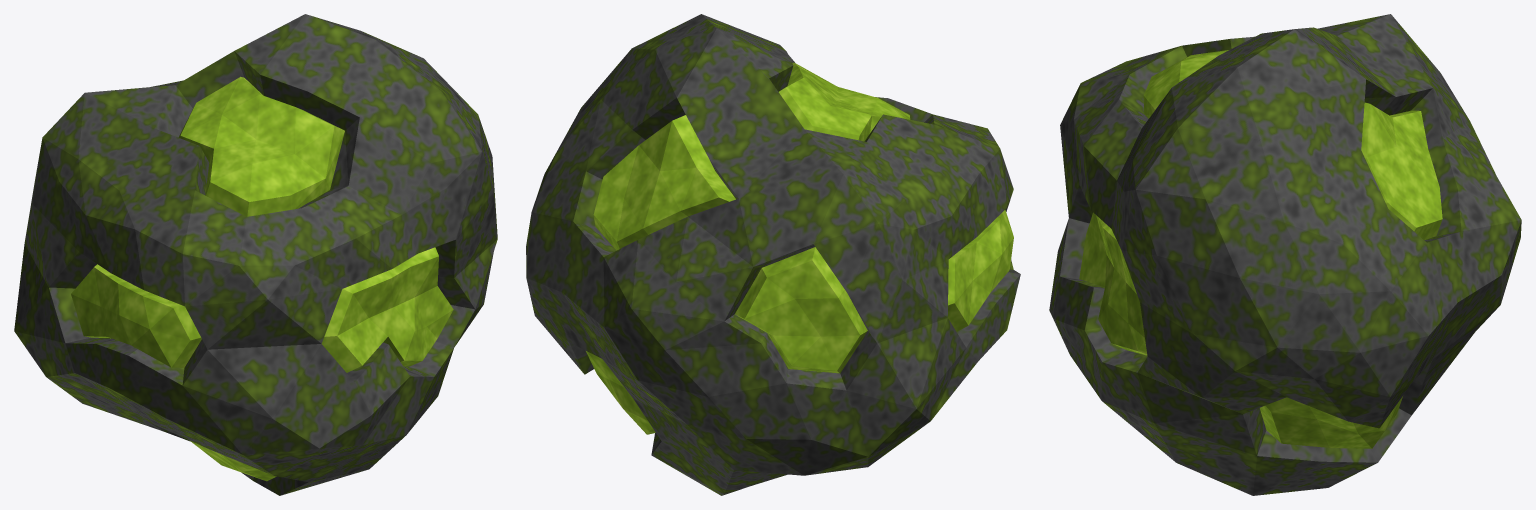
File: Uranium_Ore.fbx
3 views of the same model, side by side, from view 1: azimuth 30°, elevation 25°; view 2: azimuth 150°, elevation 25°; view 3: azimuth 270°, elevation 25° (orthographic). The views are drawn at different scales.
Visible parts, largest first — view 1: SM_Uranium_Ore; view 2: SM_Uranium_Ore; view 3: SM_Uranium_Ore.
Part boxes in pixels (left/top/right/bottom): SM_Uranium_Ore: left=14, top=14, right=497, bottom=495; SM_Uranium_Ore: left=526, top=14, right=1020, bottom=495; SM_Uranium_Ore: left=1049, top=14, right=1521, bottom=495.
Bounding box in the file's own units: 46.39 × 47.97 × 43.74.
2 materials, 2 textured.
